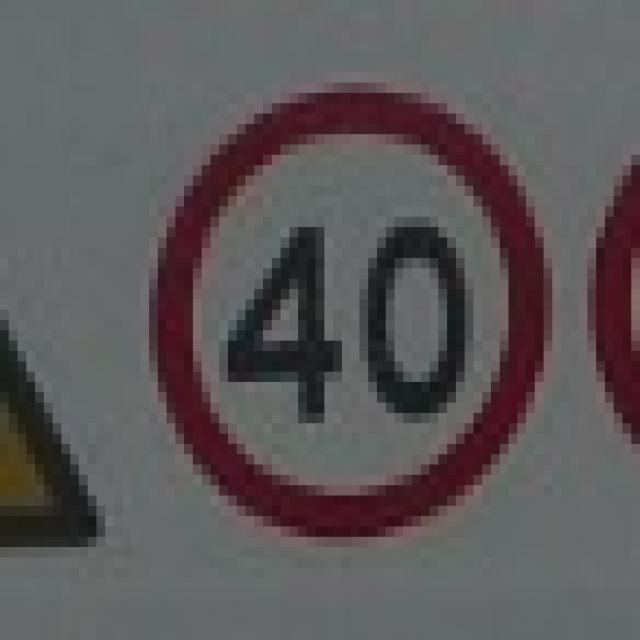Speed Limit -40-: (218, 214, 475, 434)
